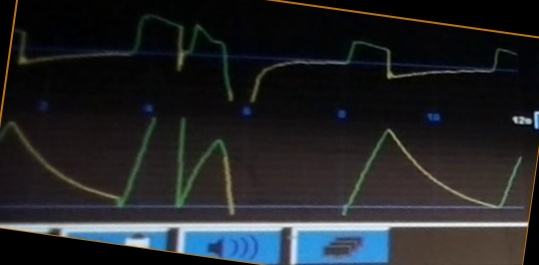Double_Triggering Flow: (16, 13, 516, 99)
Double_Triggering Volume: (3, 114, 513, 220)
